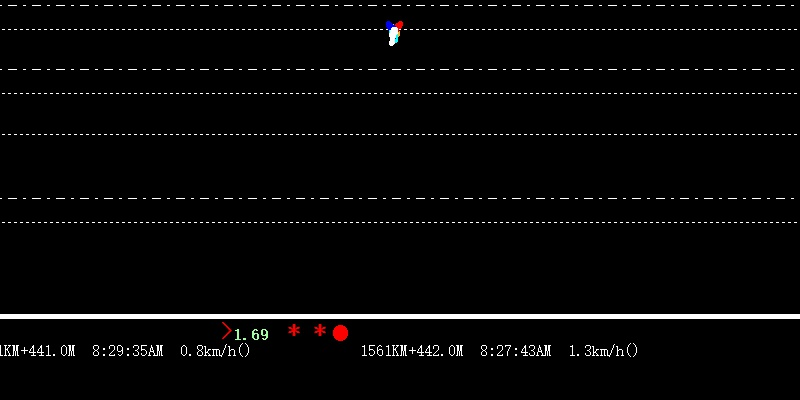circle: (330, 324, 349, 344)
face_2: (387, 14, 402, 49)
star: (287, 320, 302, 338), (312, 321, 329, 336)
